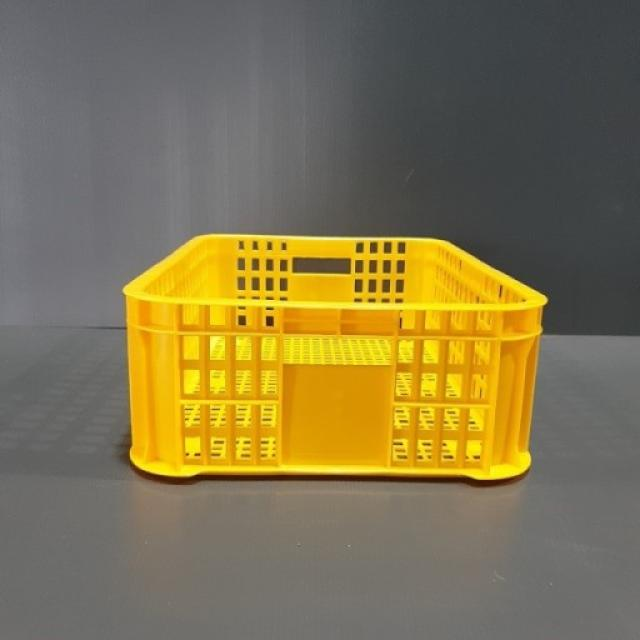basket: (122, 234, 548, 484)
